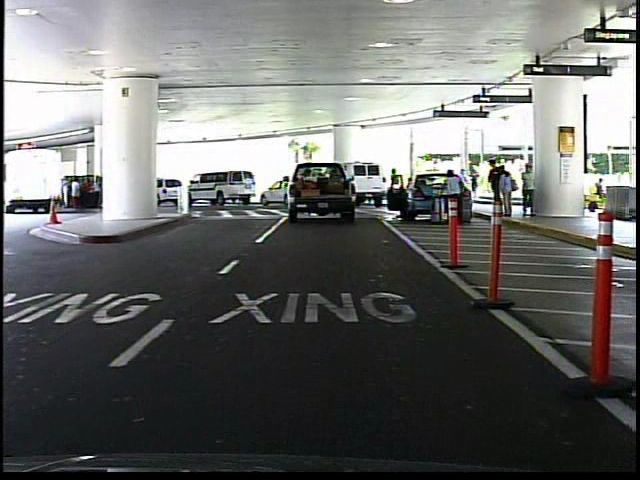person: (439, 163, 464, 226), (516, 159, 538, 219), (387, 166, 406, 212)
